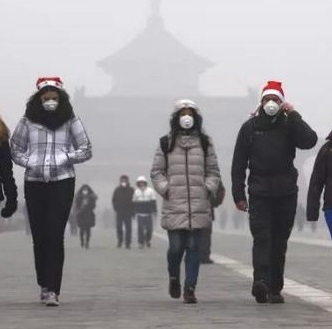person: (230, 80, 320, 304), (9, 74, 95, 308), (149, 99, 226, 305), (306, 129, 332, 235), (111, 174, 138, 250), (131, 175, 157, 249), (71, 183, 99, 249), (97, 208, 116, 229), (22, 202, 32, 237), (295, 205, 306, 231), (219, 207, 228, 232), (68, 214, 78, 236), (232, 210, 241, 230)
